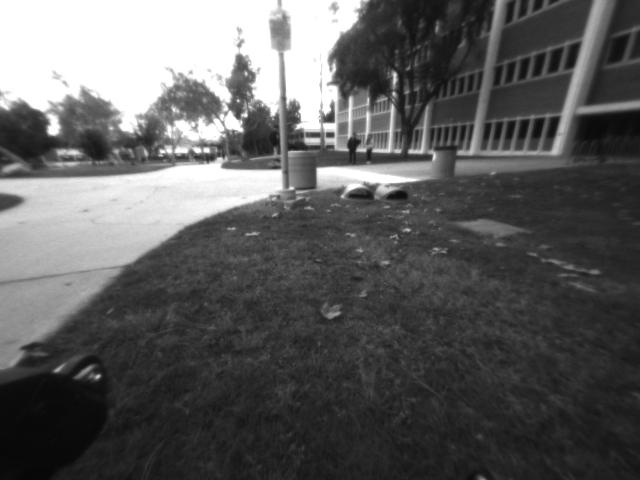trashcan: (288, 151, 314, 191), (435, 148, 454, 180)
